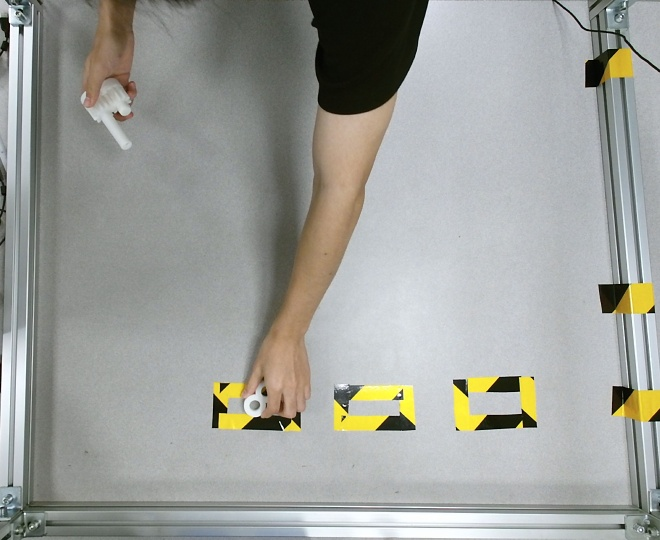stage_3: (81, 78, 132, 150)
